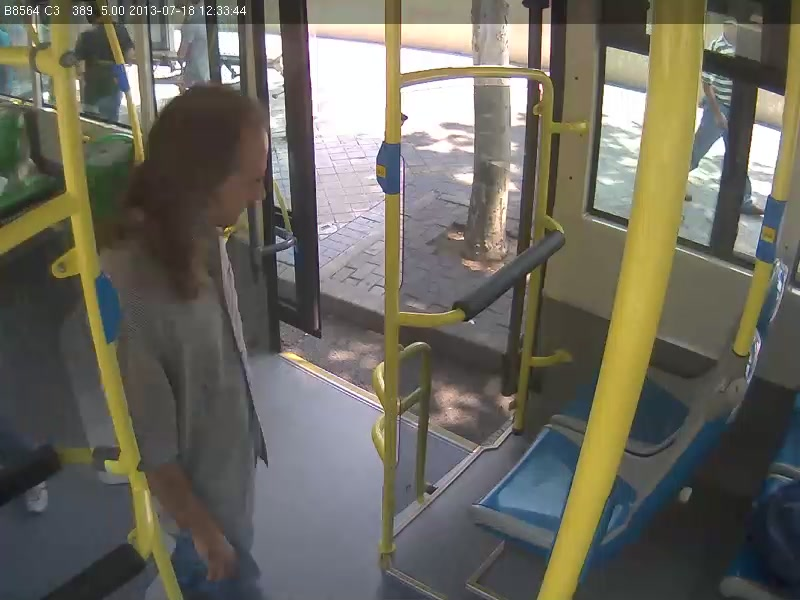Head: (138, 71, 273, 249)
